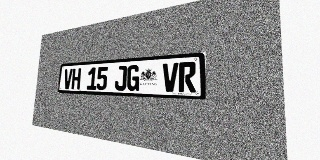1: (86, 67, 97, 90)
5: (96, 67, 108, 90)
G: (126, 65, 140, 91)
H: (71, 68, 81, 89)
J: (114, 65, 127, 91)
R: (178, 61, 196, 92)
V: (162, 62, 178, 92), (63, 69, 73, 89)
